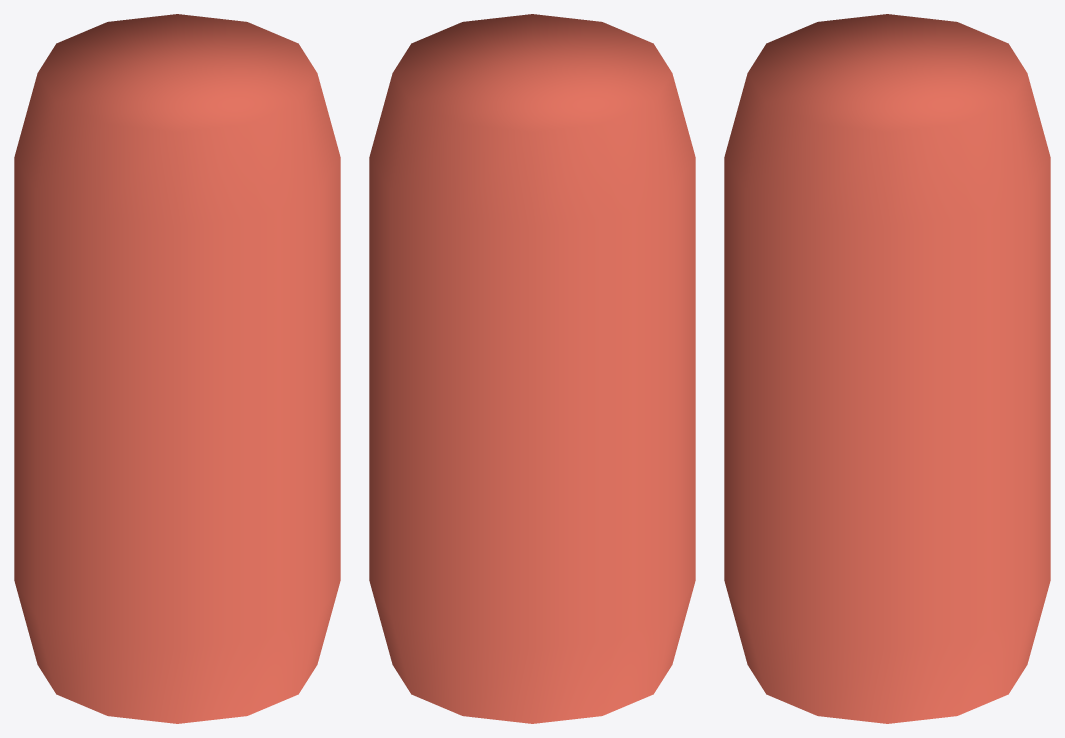
File: 03_oil.glb
3 views of the same model, side by side, from view 1: azimuth 30°, elevation 25°; view 2: azimuth 150°, elevation 25°; view 3: azimuth 270°, elevation 25° (orthographic).
Parts seen in each view (by area): view 1: auto_03_oil; view 2: auto_03_oil; view 3: auto_03_oil.
Part boxes in pixels (x1,y1,x2,y2): auto_03_oil: [14, 14, 340, 723]; auto_03_oil: [369, 14, 695, 723]; auto_03_oil: [724, 14, 1050, 723].
Bounding box in the file's own units: 0.28 × 0.562 × 0.28.
